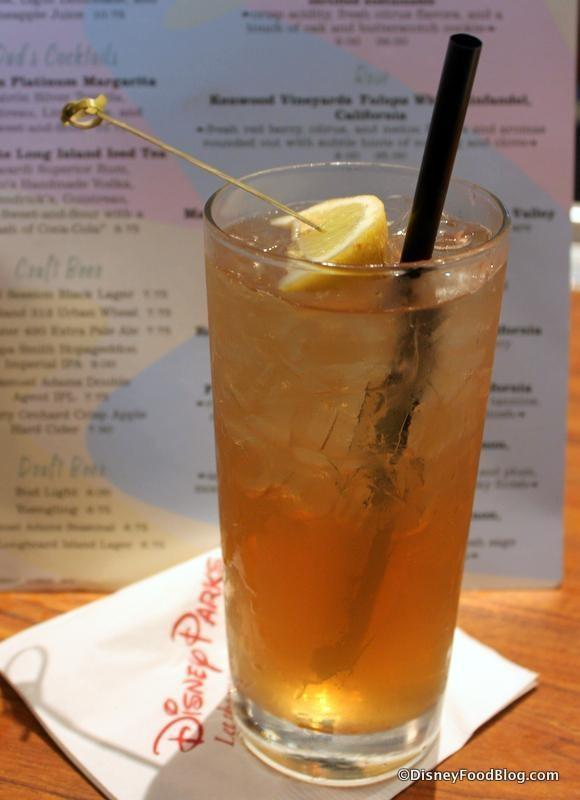glass-normal: (195, 162, 519, 790)
